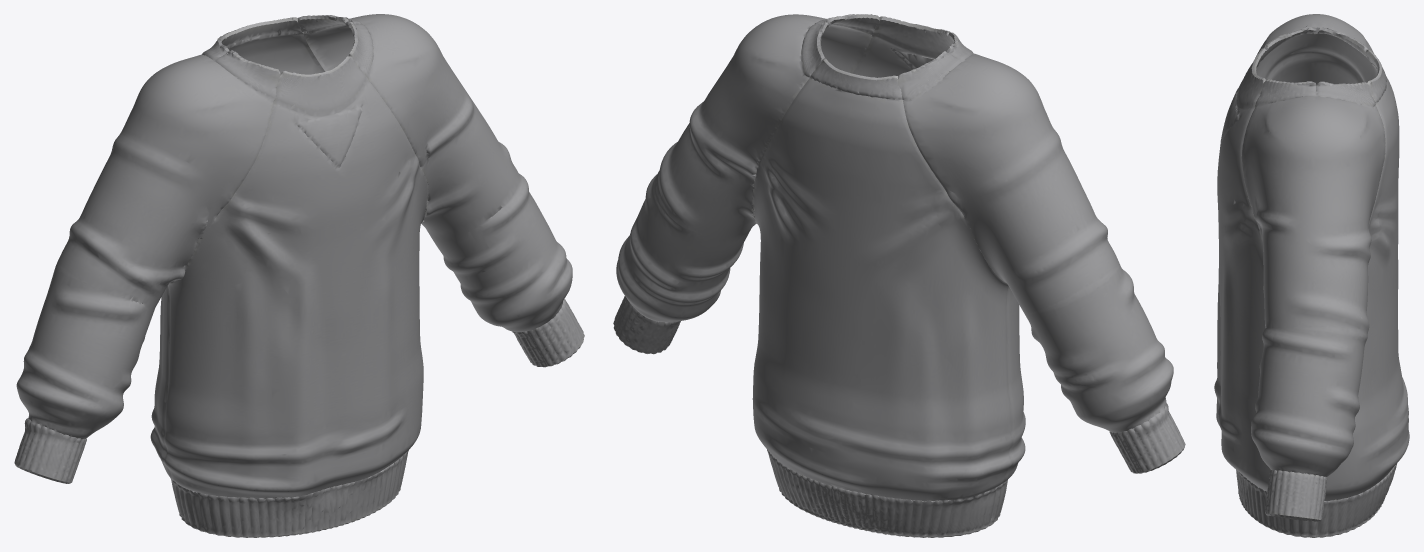
The model's file is 08_sudadera_deportiva_pbr.glb.
The picture shows the model from 3 angles, left to right: view 1: azimuth 30°, elevation 25°; view 2: azimuth 150°, elevation 25°; view 3: azimuth 270°, elevation 25°; orthographic projection. The views are drawn at different scales.
Visible parts, largest first — view 1: Camiseta PBR; view 2: Camiseta PBR; view 3: Camiseta PBR.
Part boxes in pixels (x1=…): Camiseta PBR: x1=14, y1=14, x2=584, y2=537; Camiseta PBR: x1=613, y1=14, x2=1185, y2=537; Camiseta PBR: x1=1214, y1=14, x2=1409, y2=537.
Size of the model in its own units: 0.9821 by 0.7801 by 0.3149.
1 material, 1 textured.
